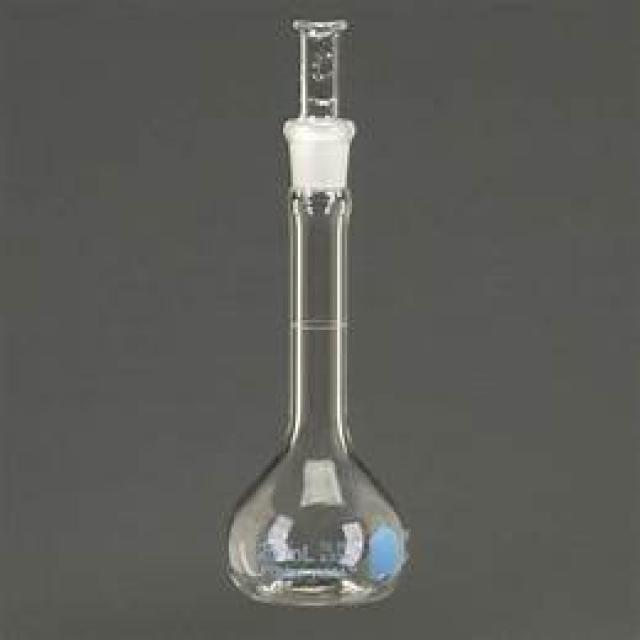Volumetric flask: (224, 16, 413, 604)
